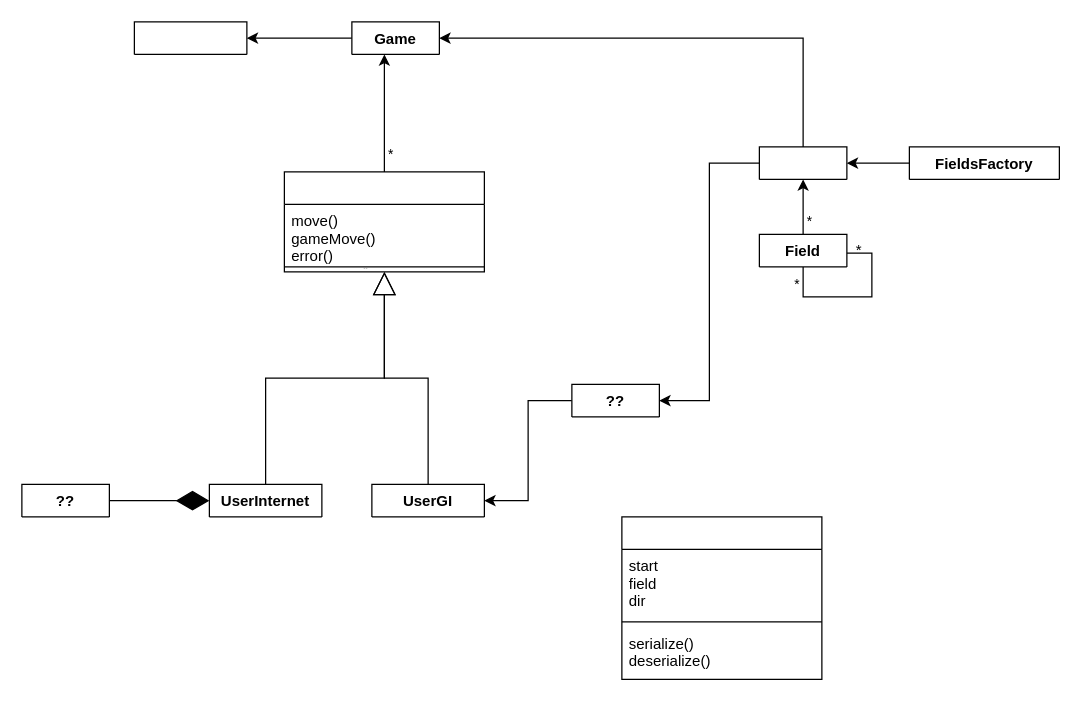
Some shapes in this 1081 by 705 pixel diagram are drawn without their labels. The shapes that lost their labels are listed below. From the top down, each one's box as (x1, y1, x2, y2) in pixels, then its label:
(133, 21, 247, 54): EntryPoint
(758, 146, 847, 179): Board
(283, 171, 484, 272): User
(621, 516, 822, 679): MoveInstruction
